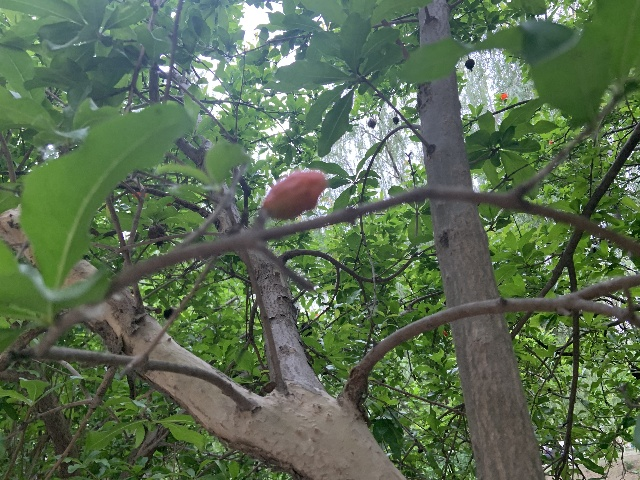bud: (262, 169, 326, 220)
flower: (500, 93, 507, 100), (442, 330, 447, 336), (548, 140, 553, 144)
